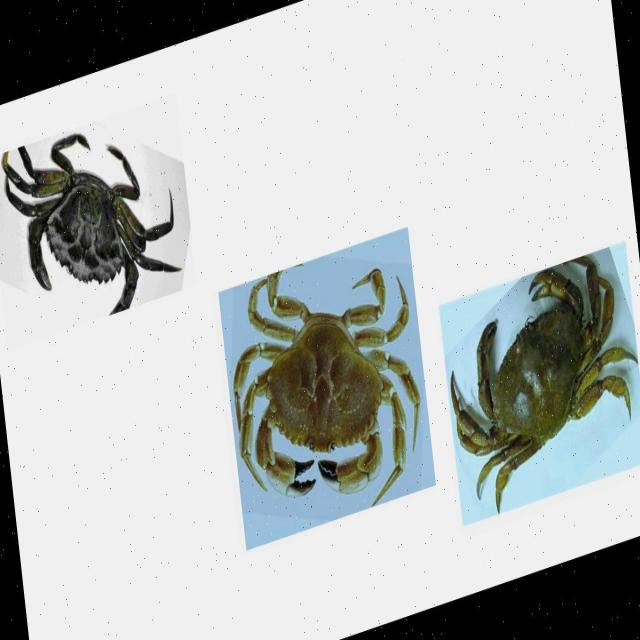egc: (2, 132, 182, 316)
